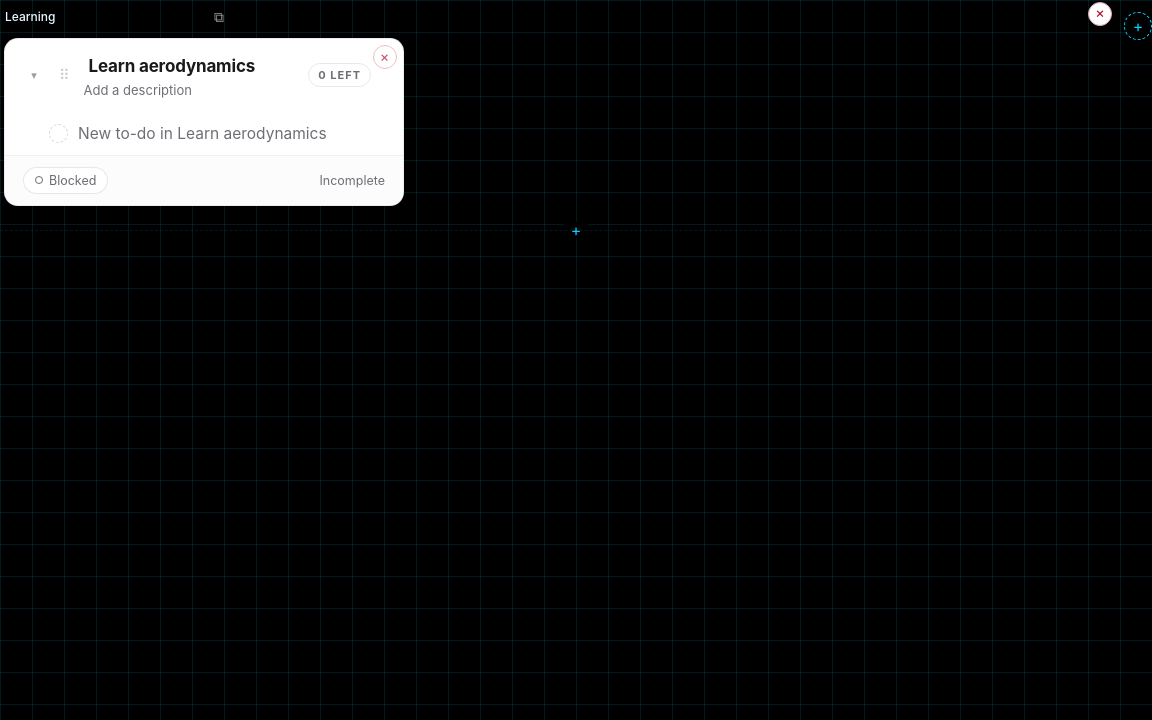
it: LayerRow › leaves the layer alone when the confirmation is cancelled
What coordinates should you click on to do the following:
click the button named "delete layer"
I would click on:
 (1100, 14)
Its box is [1088,2,1112,26].
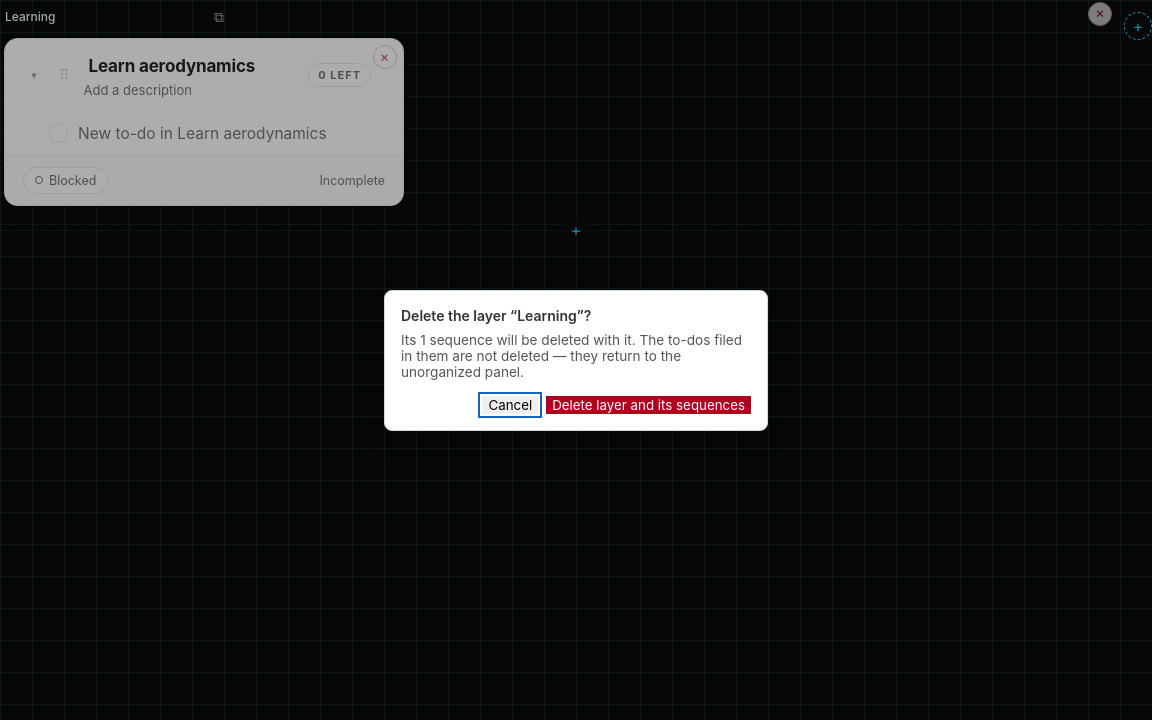
What coordinates should you click on to do the following:
click the button "Cancel"
I would click on:
 (510, 404)
Its box is [482,396,538,414].
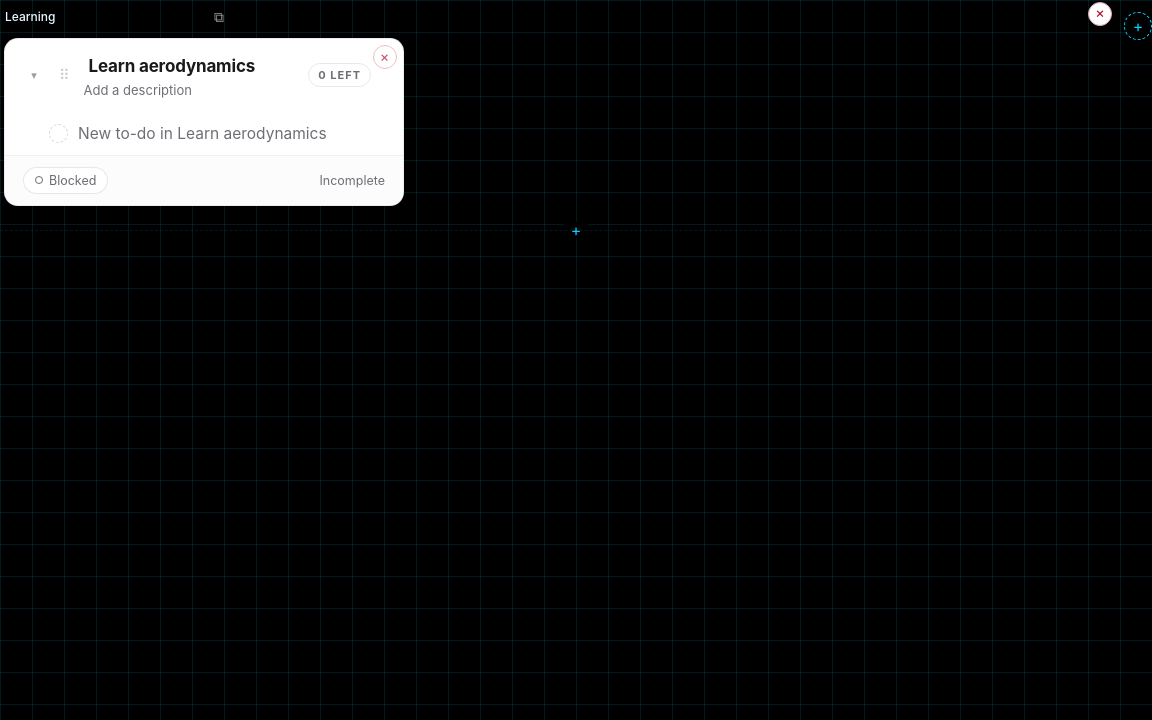
expect the dialog is gone: met
